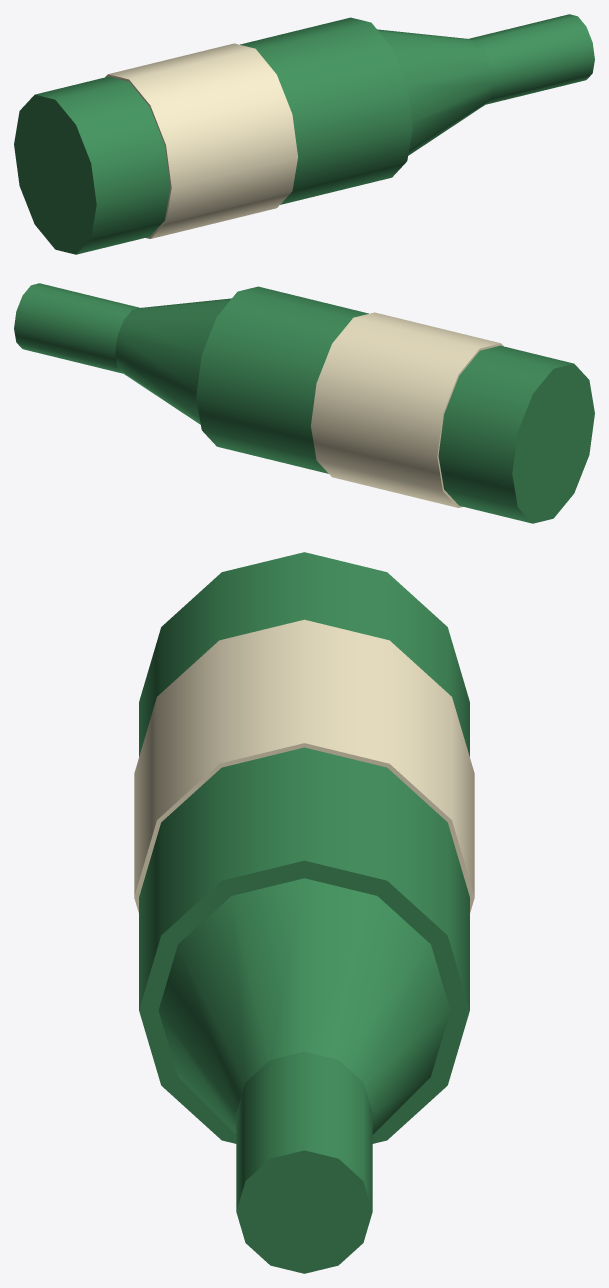
Rendered from waste_glassbottle.fbx.
The picture shows the model from 3 angles, top to bottom: view 1: azimuth 30°, elevation 25°; view 2: azimuth 150°, elevation 25°; view 3: azimuth 270°, elevation 25°; orthographic projection. The views are drawn at different scales.
Visible parts, largest first — view 1: M__waste_glassbottle; view 2: M__waste_glassbottle; view 3: M__waste_glassbottle.
Part boxes in pixels (left/top/right/bottom): M__waste_glassbottle: left=14, top=14, right=594, bottom=254; M__waste_glassbottle: left=14, top=283, right=594, bottom=523; M__waste_glassbottle: left=134, top=552, right=474, bottom=1273.
Bounding box in the file's own units: 0.248 × 0.07 × 0.07.
